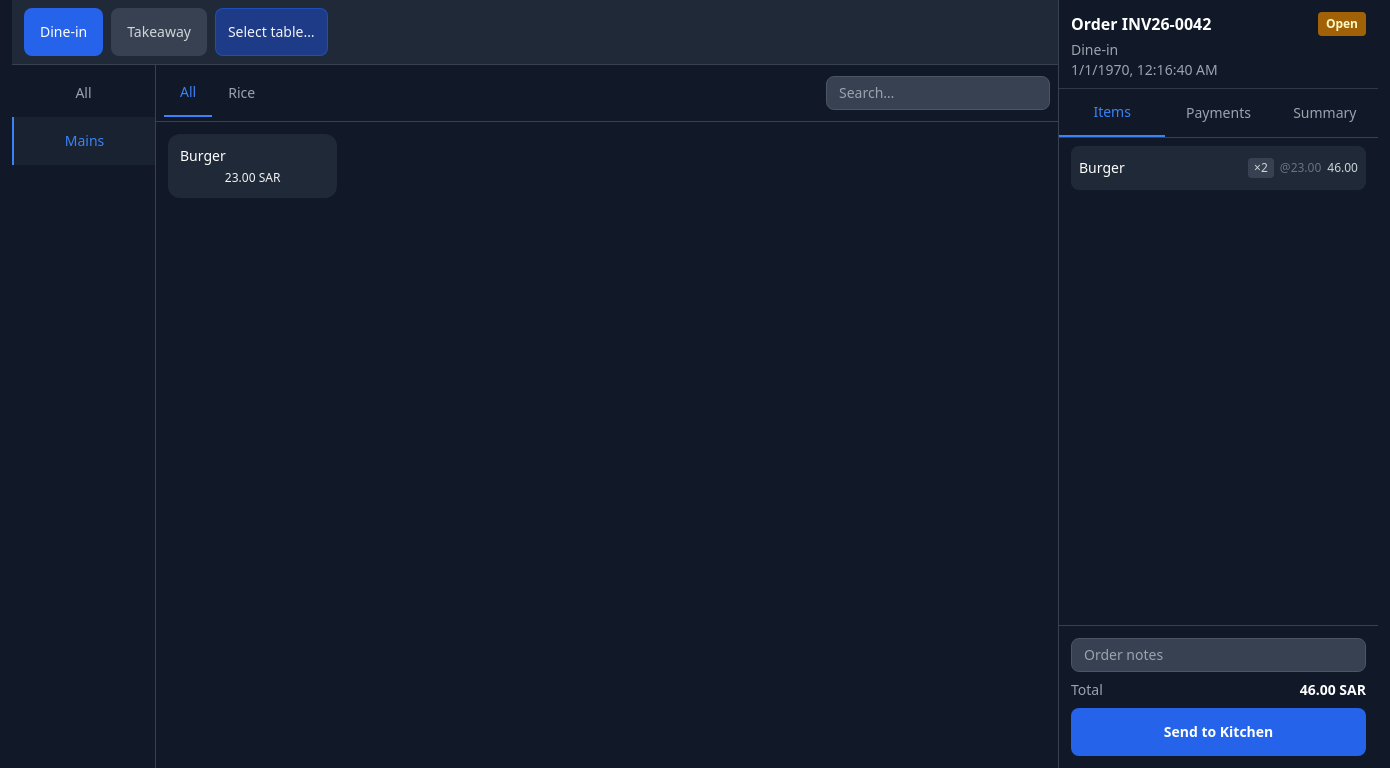
OrderPage — Promotion Discount display (slice 9) › summary hides Promotion + Payable when no Promotion is stamped
Check: the heading "Order INV26-0042" is shown, box [1071, 12, 1211, 36]
Click the button "Summary".
click(1325, 113)  # box [1272, 89, 1378, 137]
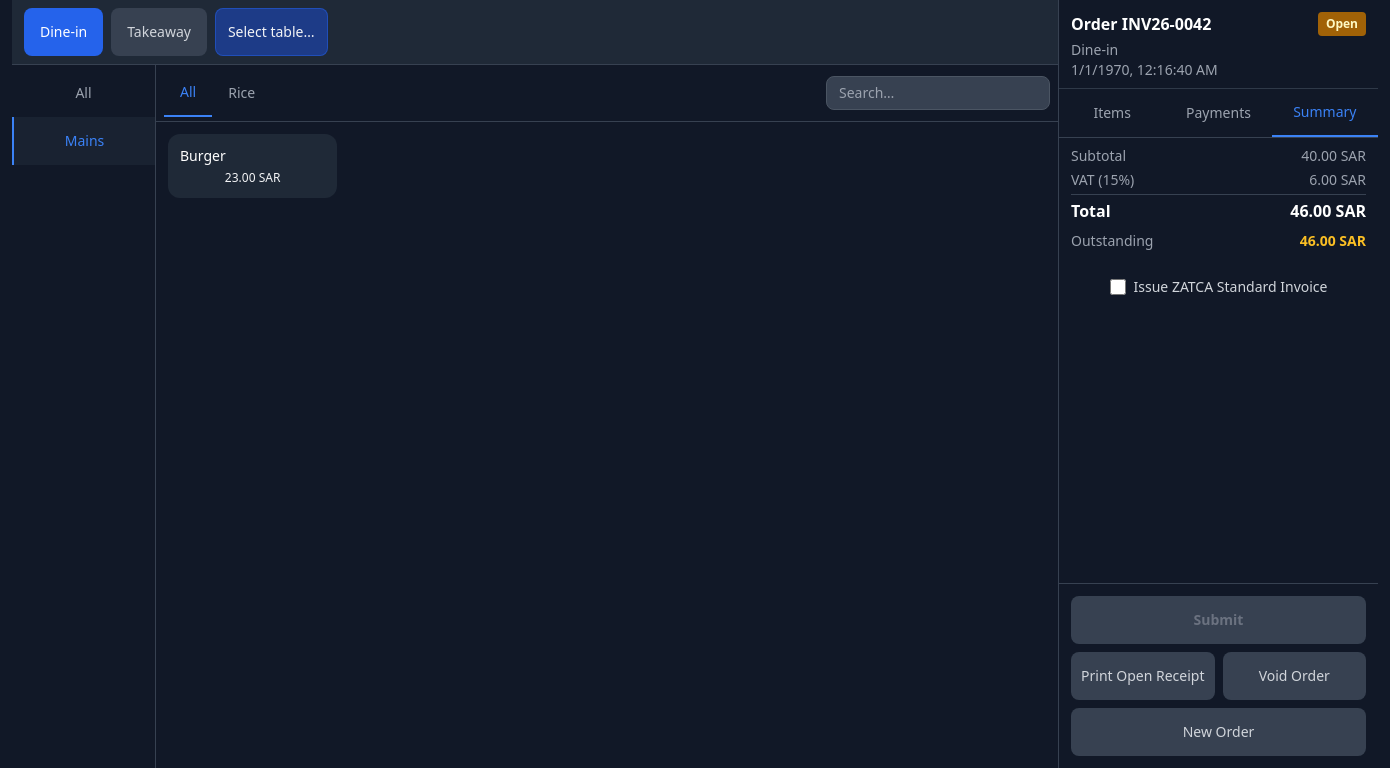
Check: the text "46.00 SAR" is shown 2 times, box [1290, 199, 1366, 223]; [1300, 231, 1366, 251]
Check: the text "6.00 SAR" is shown, box [1309, 170, 1366, 190]
